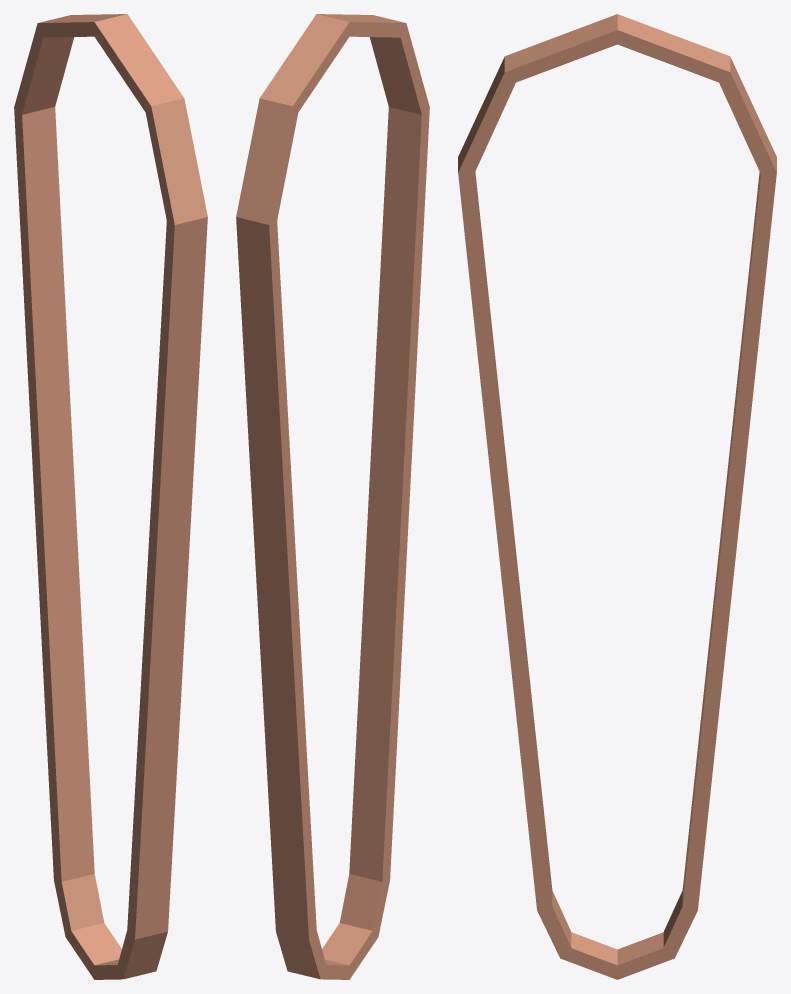
The model's file is LightRopeMechMediumBeltDrive2.fbx.
3 renders of one model, left to right at view 1: azimuth 30°, elevation 25°; view 2: azimuth 150°, elevation 25°; view 3: azimuth 270°, elevation 25°, orthographic.
Visible parts, largest first — view 1: LightRopeMechMediumBeltDrive2; view 2: LightRopeMechMediumBeltDrive2; view 3: LightRopeMechMediumBeltDrive2.
Boxes of the visible parts, x1,y1,x2,y2 form: LightRopeMechMediumBeltDrive2: (14,14,207,979); LightRopeMechMediumBeltDrive2: (236,14,429,979); LightRopeMechMediumBeltDrive2: (458,14,776,979).
Bounding box in the file's own units: 26.04 × 721 × 219.
